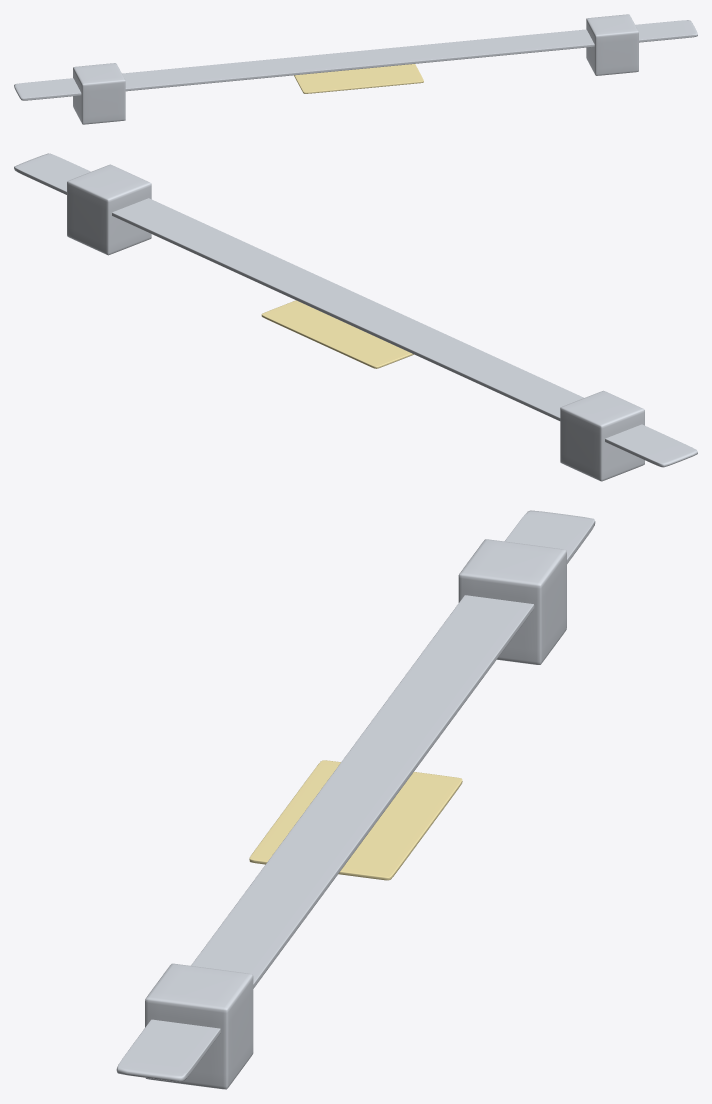
The model's file is PROP_SwingSet_v2.glb.
The picture shows the model from 3 angles, top to bottom: view 1: azimuth 30°, elevation 25°; view 2: azimuth 150°, elevation 25°; view 3: azimuth 270°, elevation 25°; orthographic projection. The views are drawn at different scales.
Visible parts, largest first — view 1: PROP_SwingSet_v2; view 2: PROP_SwingSet_v2; view 3: PROP_SwingSet_v2.
Boxes of the visible parts, x1,y1,x2,y2 form: PROP_SwingSet_v2: (14,14,697,124); PROP_SwingSet_v2: (14,153,697,481); PROP_SwingSet_v2: (116,510,595,1089).
Size of the model in its own units: 15.08 by 1.01 by 5.37.
